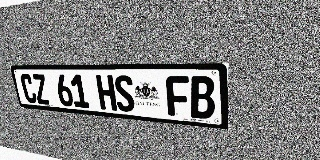1: (69, 74, 89, 108)
6: (54, 74, 74, 107)
B: (189, 76, 215, 120)
C: (19, 74, 38, 104)
F: (165, 76, 190, 117)
H: (95, 75, 117, 111)
S: (113, 75, 136, 112)
Z: (31, 74, 50, 105)
